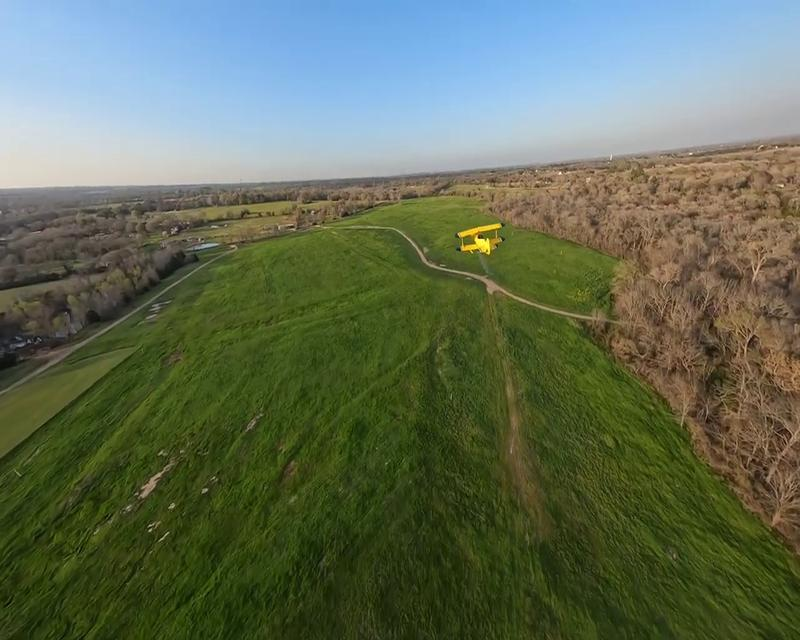UAV: (454, 221, 504, 256)
